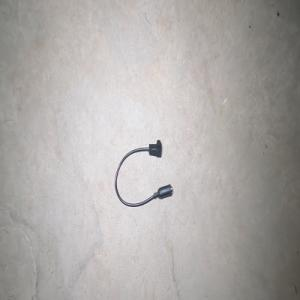Wire: (114, 139, 173, 206)
